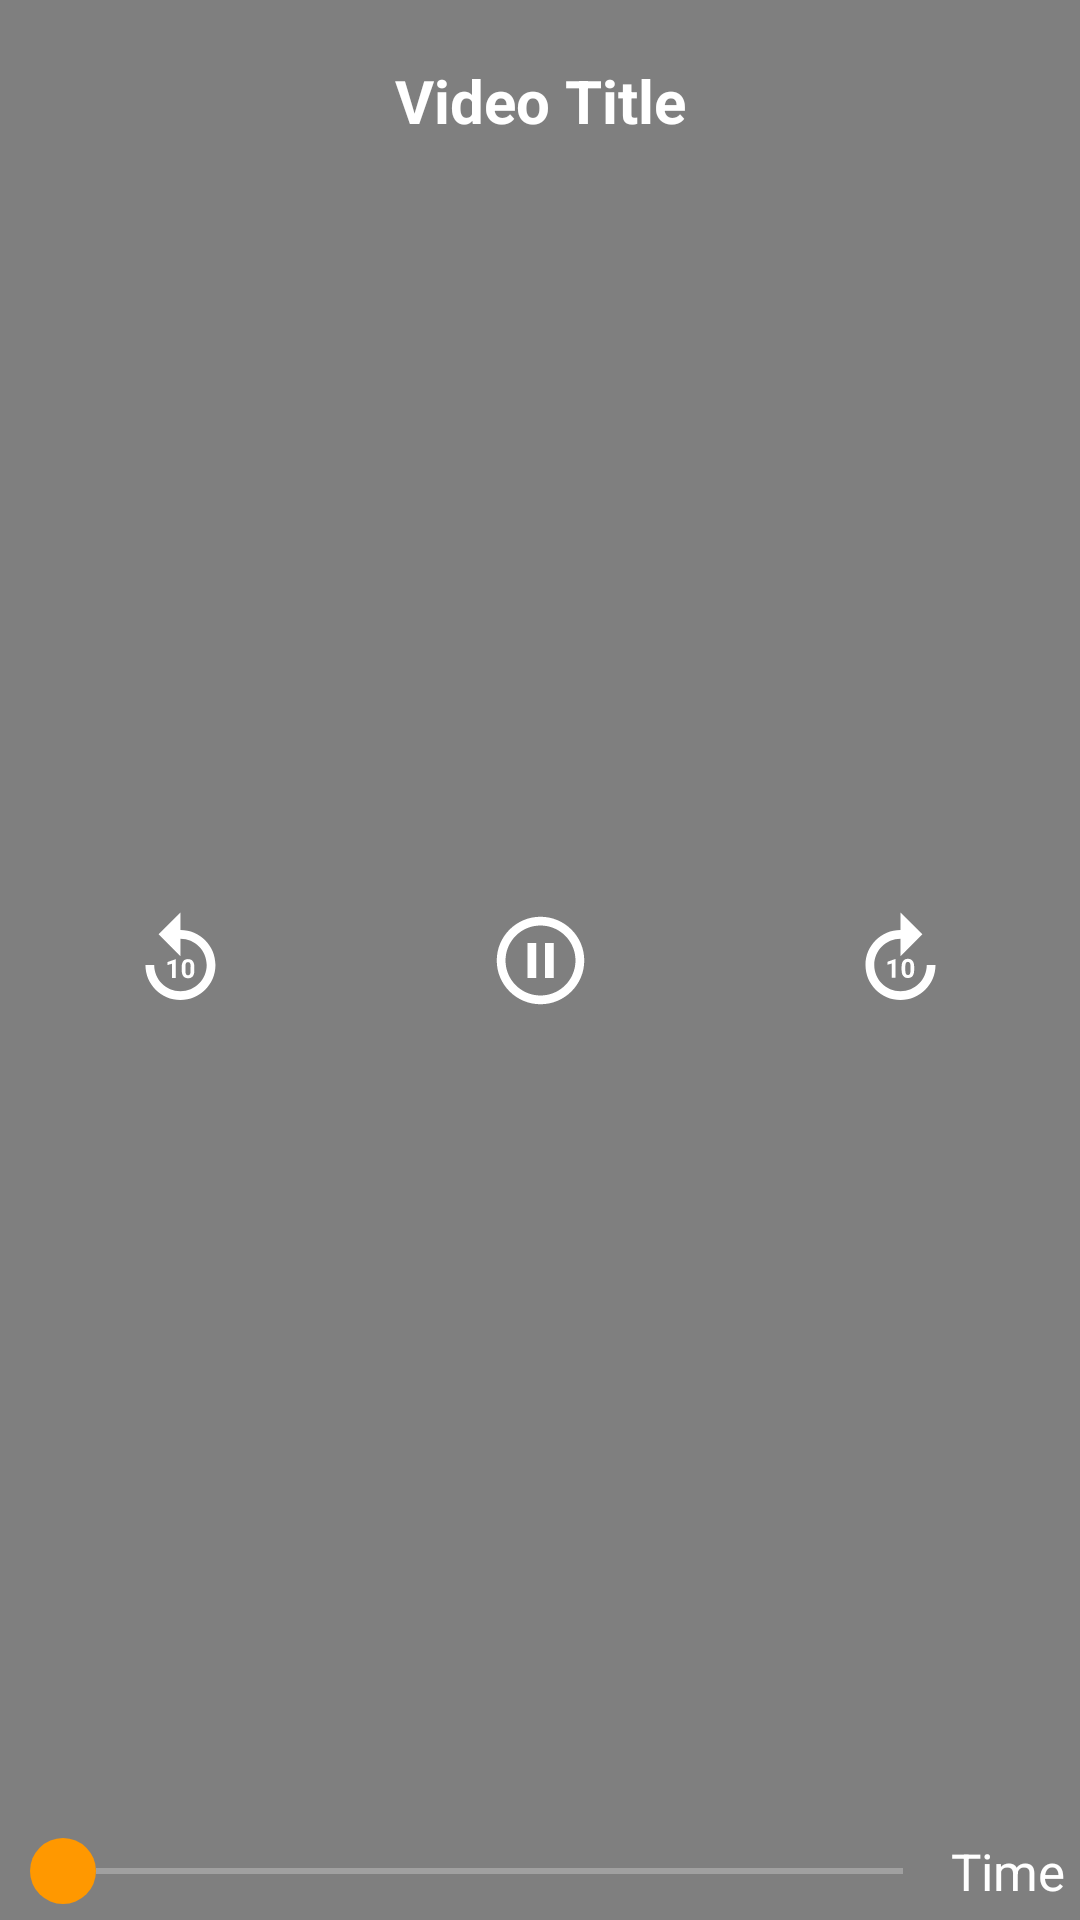

Named icons in this screenshot (1080 x 1920) and their centers, (x,y):
forword: (900,956)
pause: (540,960)
replay: (180,956)
